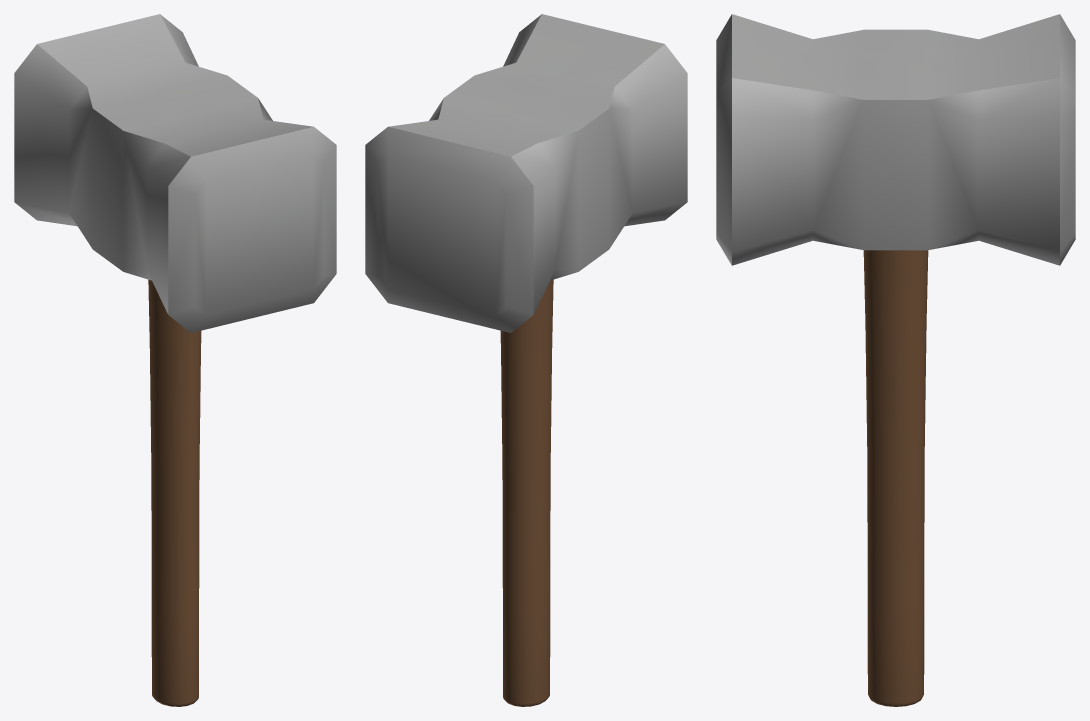
File: hummer2.fbx
The picture shows the model from 3 angles, left to right: view 1: azimuth 30°, elevation 25°; view 2: azimuth 150°, elevation 25°; view 3: azimuth 270°, elevation 25°; orthographic projection. The views are drawn at different scales.
Visible parts, largest first — view 1: hammer; view 2: hammer; view 3: hammer.
Part boxes in pixels (x1,y1,x2,y2): hammer: (14,14,336,706); hammer: (365,14,687,706); hammer: (716,14,1075,706).
Bounding box in the file's own units: 0.3987 × 1.38 × 0.6916.
